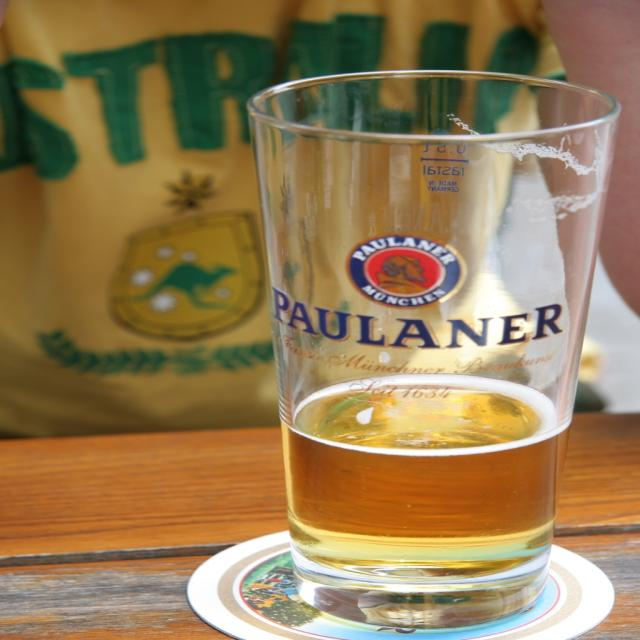paulaner: (350, 235, 468, 310)
